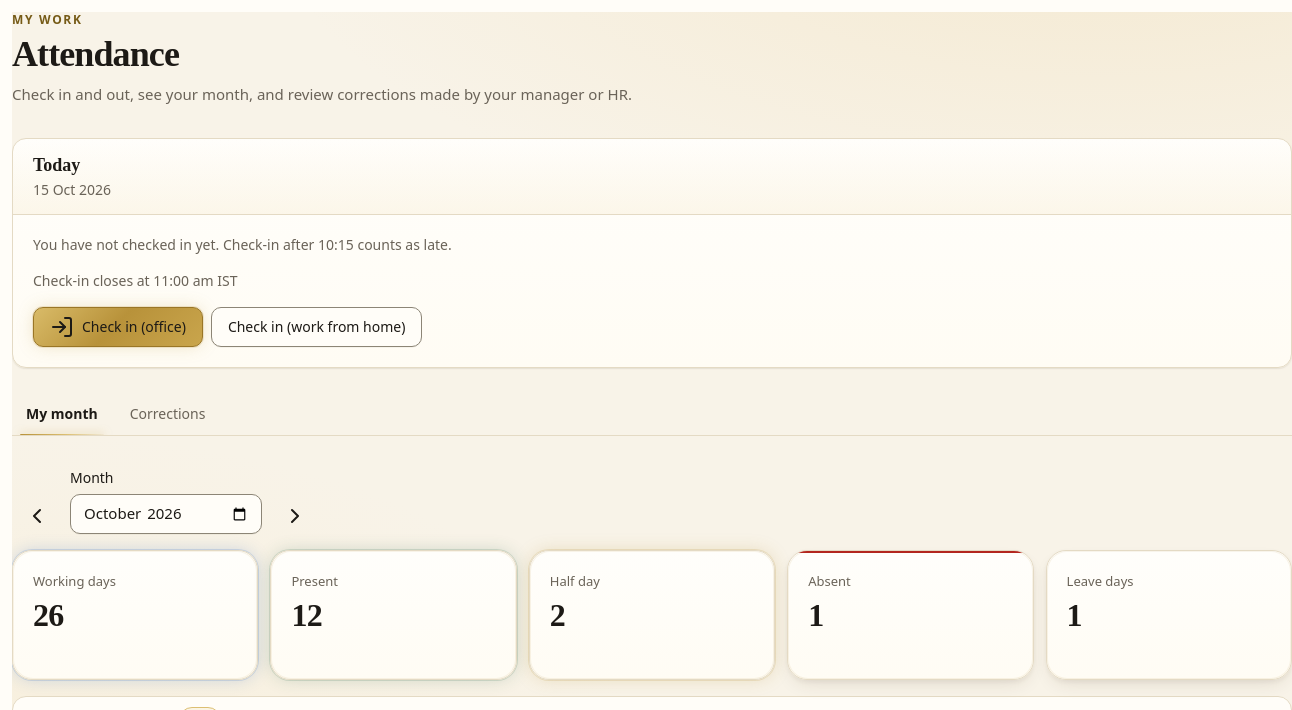
Test: AttendancePage › a late attempt refused with CHECK_IN_CLOSED shows the closed state
Click the button "Check in (office)" at (118, 327), box [33,307,203,347]
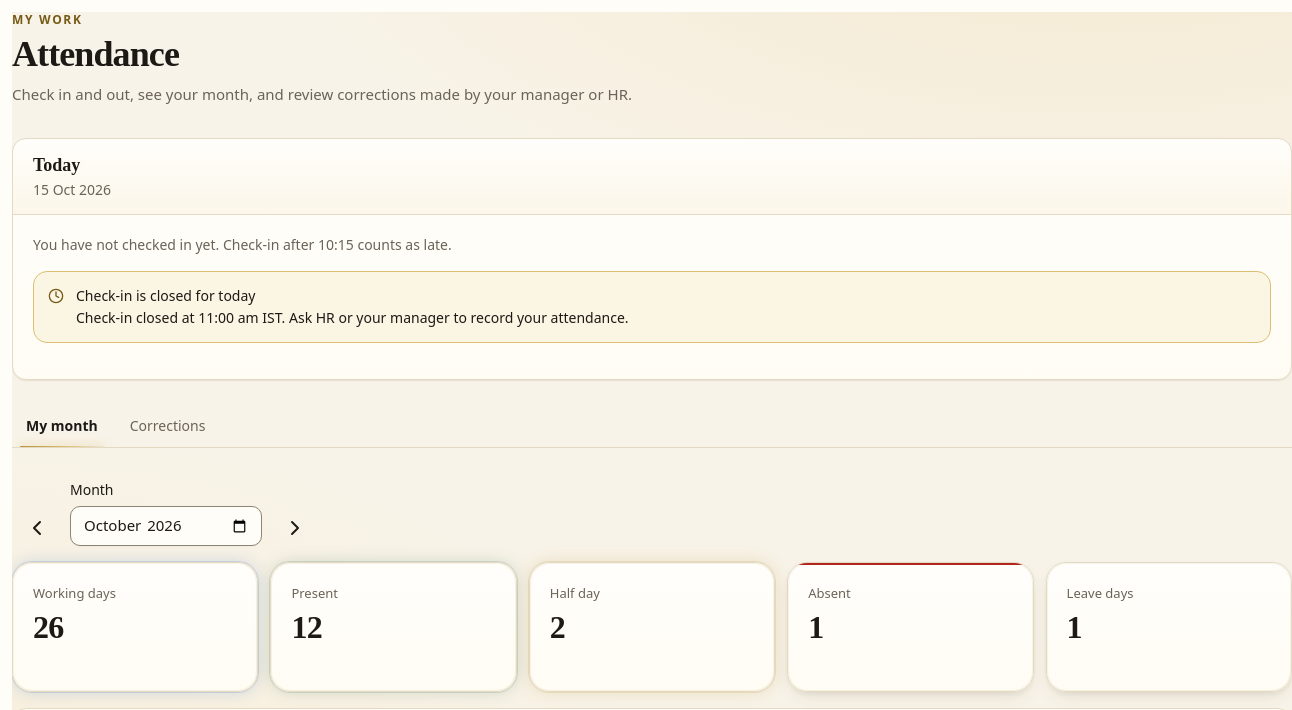
Now the text "Check-in closed at 11:00 am IST" is shown, box [76,308,629,327]
